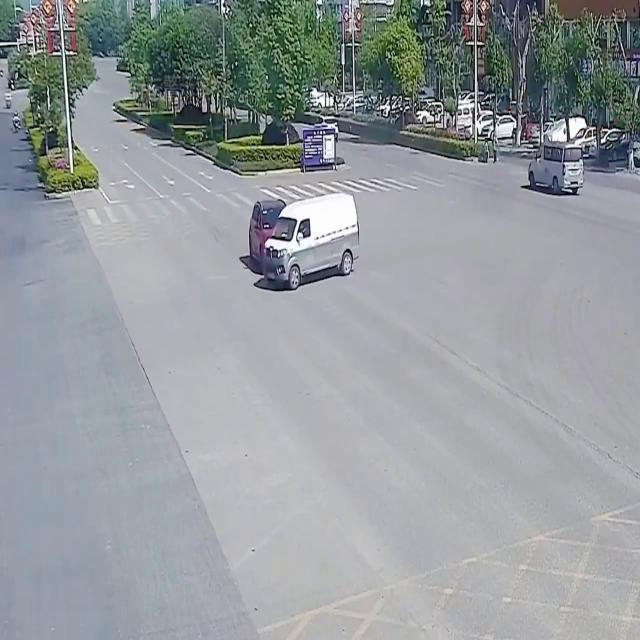accident: (250, 195, 356, 288)
non-accident: (306, 91, 630, 157), (418, 102, 630, 156), (304, 88, 414, 128)
